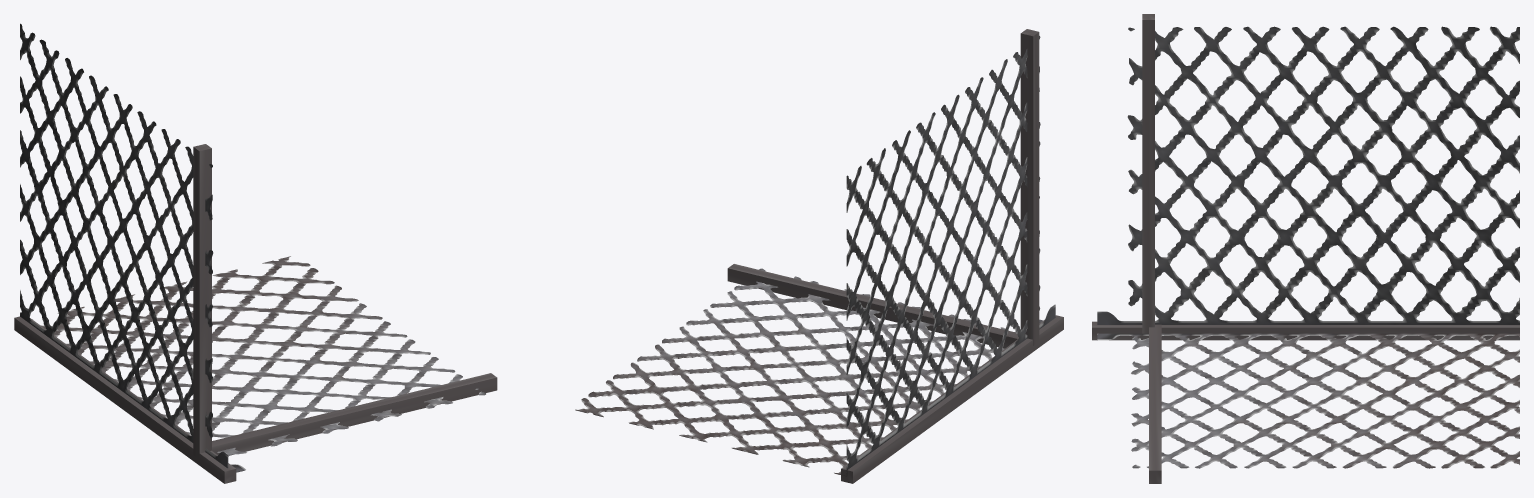
Rendered from pz_fence_png_fencing_01_28.obj.
3 renders of one model, left to right at view 1: azimuth 30°, elevation 25°; view 2: azimuth 150°, elevation 25°; view 3: azimuth 270°, elevation 25°, orthographic.
Bounding box in the file's own units: 1.02 × 1.02 × 1.24.
Materials: 1 (1 with a texture image).
